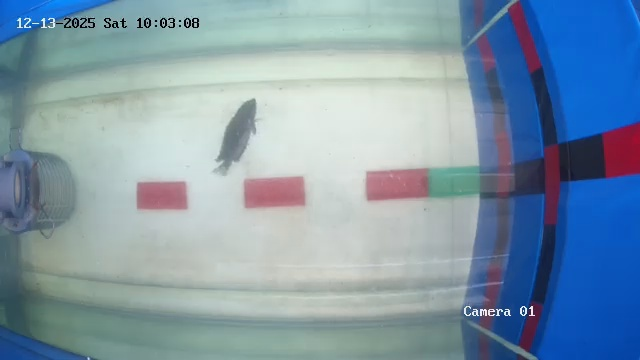fish: (218, 100, 264, 159)
